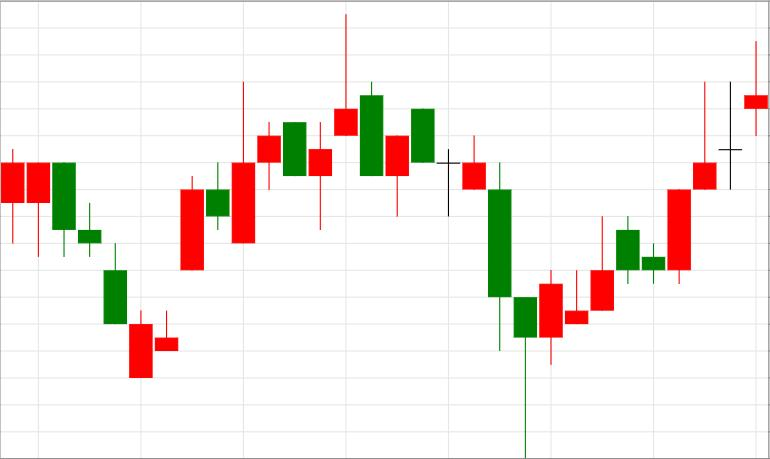hammer_rise: (411, 108, 537, 459)
shooting_star_fall: (539, 82, 716, 364)
